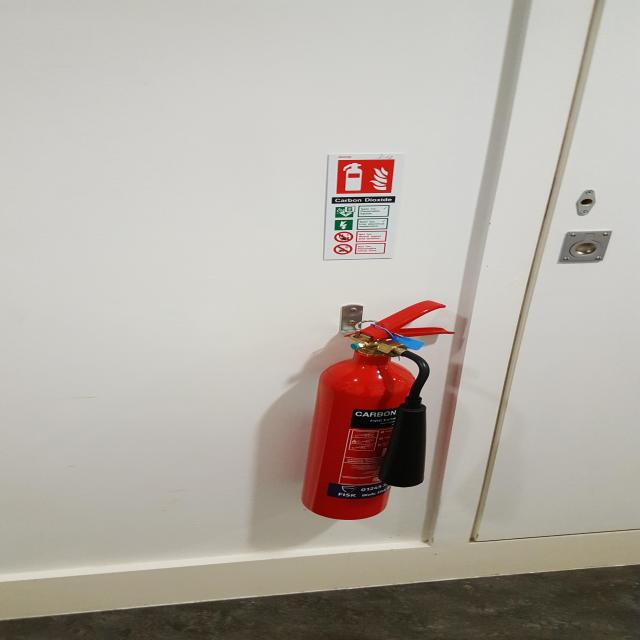fire_extinguisher: (296, 298, 464, 522)
